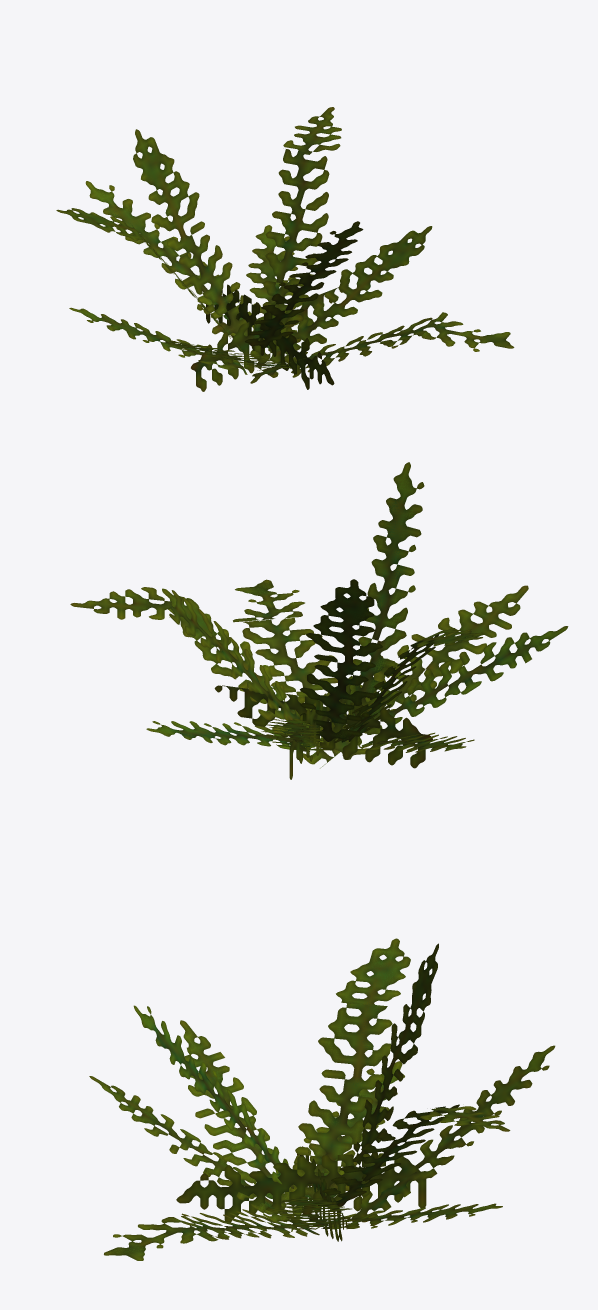
The model's file is fern_3.obj.
The picture shows the model from 3 angles, top to bottom: view 1: azimuth 30°, elevation 25°; view 2: azimuth 150°, elevation 25°; view 3: azimuth 270°, elevation 25°; orthographic projection. The views are drawn at different scales.
Parts seen in each view (by area): view 1: cube; view 2: cube; view 3: cube.
Part boxes in pixels (bbox=[...]): cube: bbox=[56, 107, 514, 391]; cube: bbox=[70, 462, 568, 779]; cube: bbox=[89, 938, 555, 1260].
Bounding box in the file's own units: 2.19 × 1.53 × 2.2.
